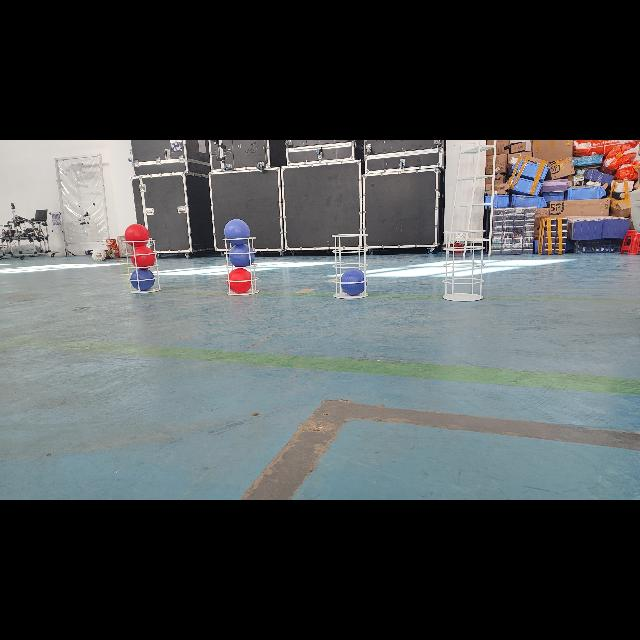B: (339, 268, 368, 296), (224, 219, 252, 245), (229, 244, 255, 268), (131, 268, 155, 290)
R: (230, 268, 254, 292), (126, 223, 150, 247), (130, 246, 156, 268)
S: (441, 229, 491, 303), (328, 232, 374, 300), (121, 236, 165, 298), (220, 232, 260, 300)
